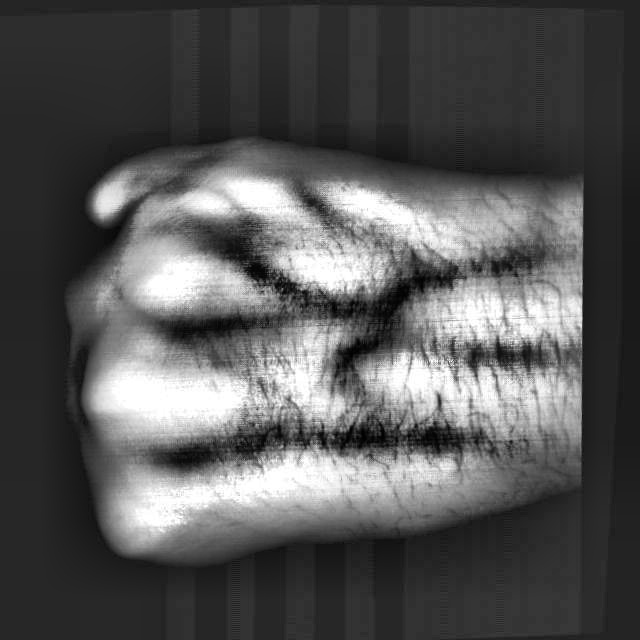Vein: (251, 420, 479, 467)
